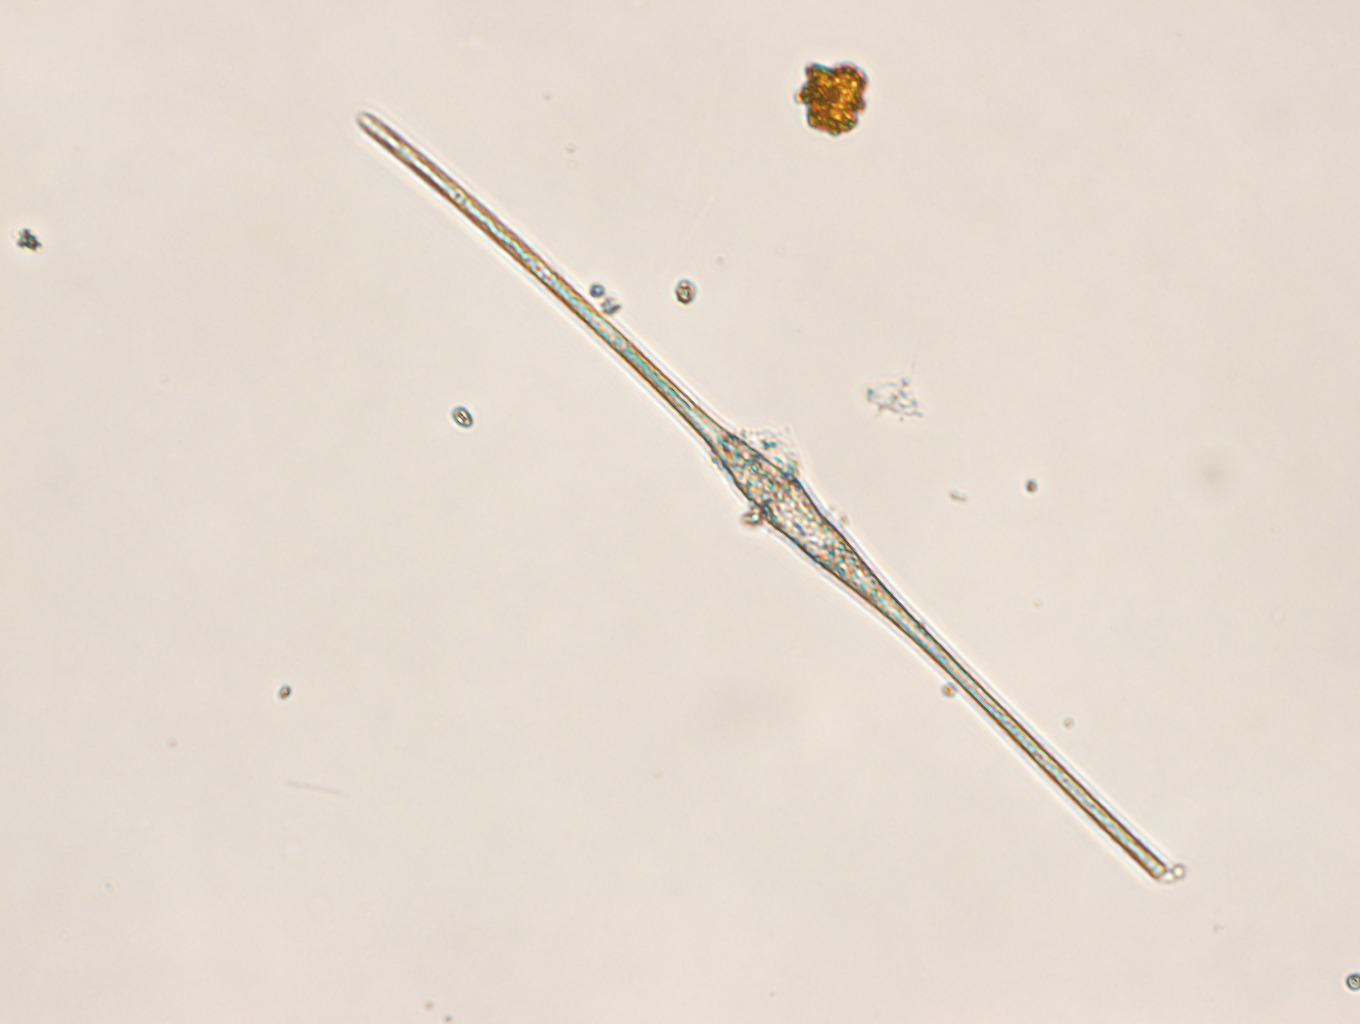ceratium fusus: (352, 105, 1172, 882)
